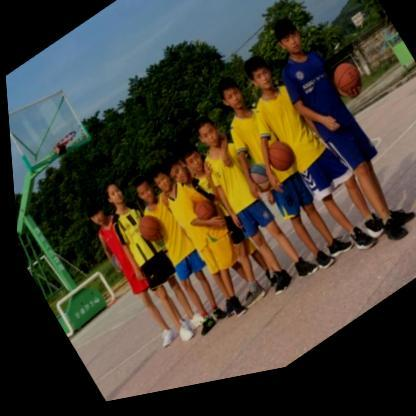basketball: (327, 69, 366, 113), (260, 143, 296, 188), (130, 214, 161, 250), (244, 167, 271, 205), (188, 202, 215, 233)
